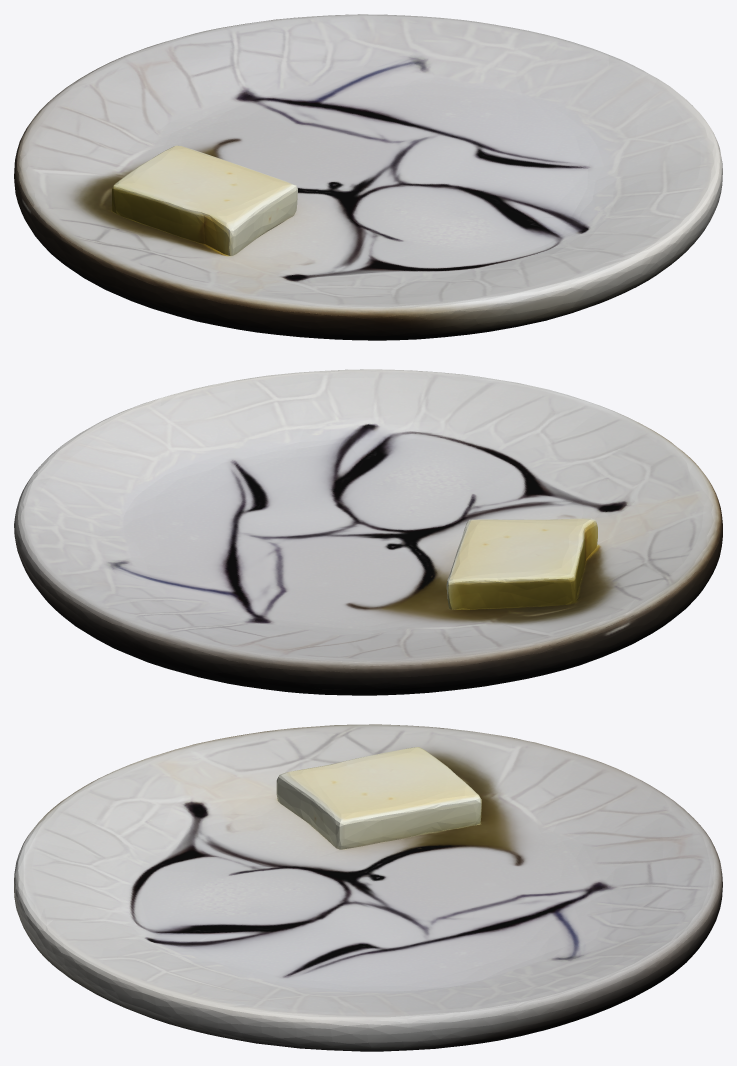
The model's file is porcelain-cheese-plate-futuristic.jpeg.glb.
3 views of the same model, one above another, from view 1: azimuth 30°, elevation 25°; view 2: azimuth 150°, elevation 25°; view 3: azimuth 270°, elevation 25° (orthographic).
Visible parts, largest first — view 1: world; view 2: world; view 3: world.
Part boxes in pixels (x1=…): world: x1=14, y1=14, x2=722, y2=340; world: x1=14, y1=369, x2=722, y2=695; world: x1=14, y1=724, x2=722, y2=1051.
Size of the model in its own units: 1 by 0.086 by 1.
Materials: 1 (1 with a texture image).
